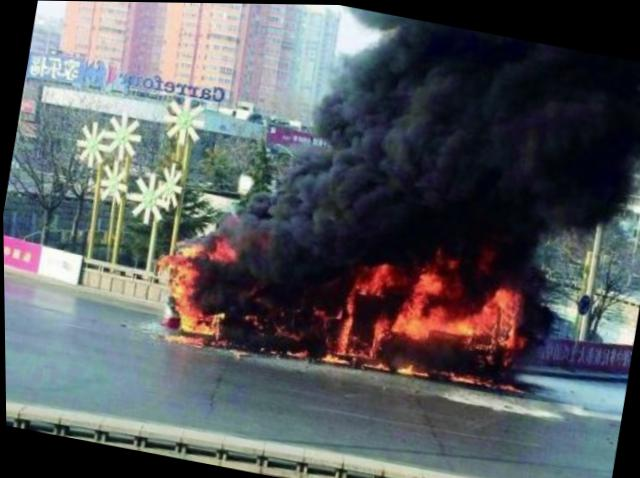fire: (147, 196, 531, 403)
